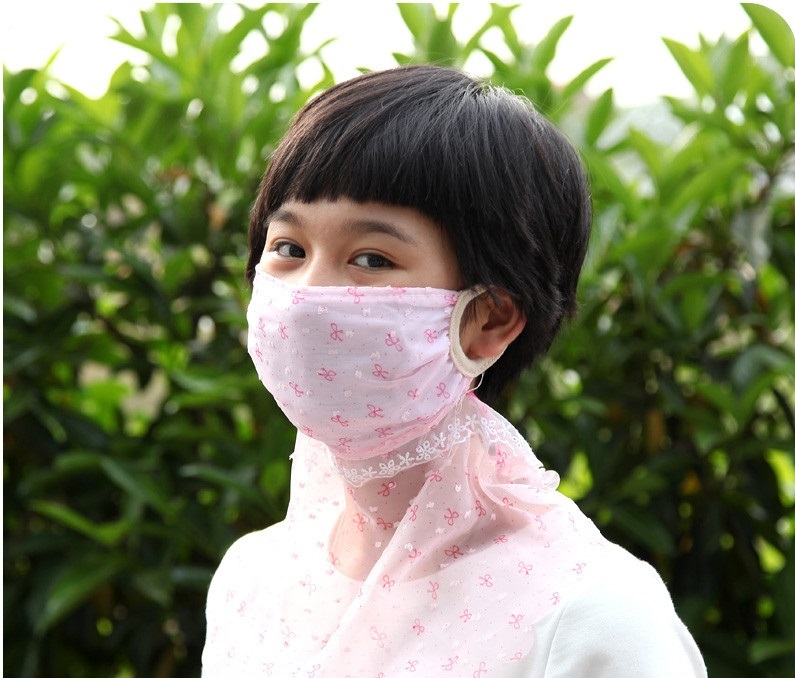face_mask: (253, 171, 470, 423)
